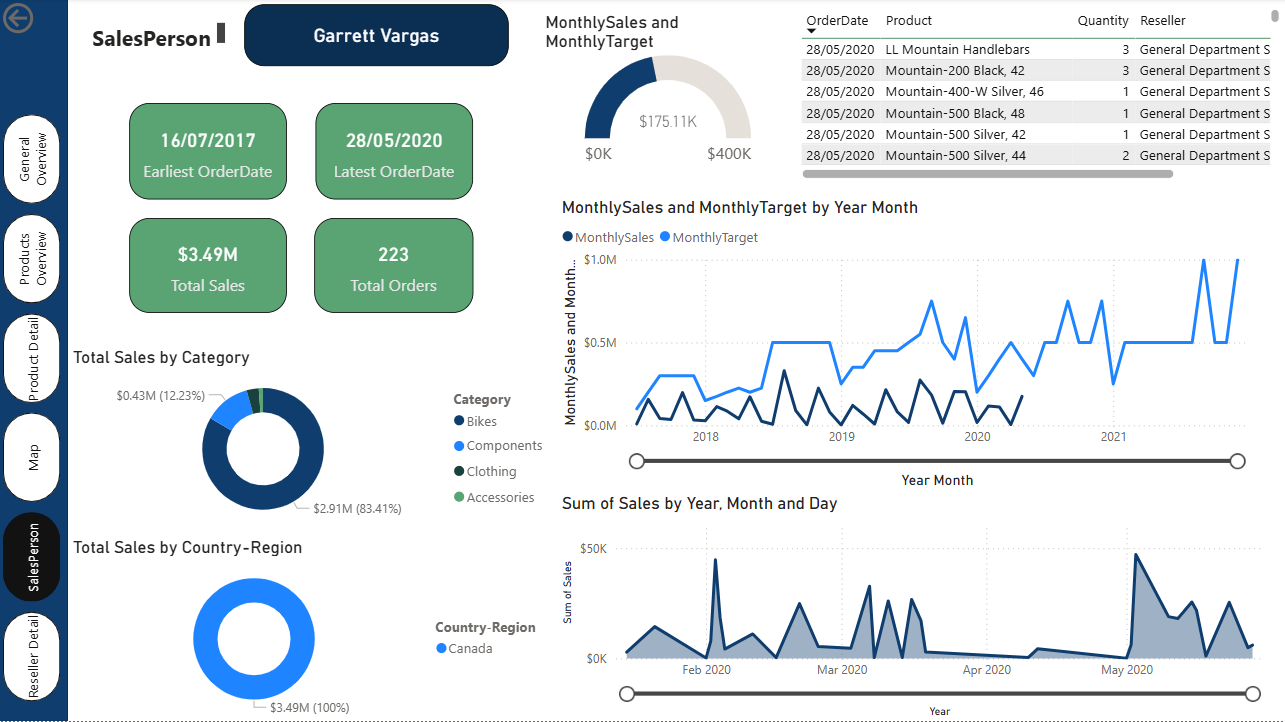

The page's visual inventory and layout, read from the dashboard file:
{"tool":"powerbi","page":{"name":"SalesPerson","canvas":[1280,720],"ordinal":4},"visuals":[{"type":"card","fields":{"Values":["Min(Salesperson.Salesperson)"]},"box":[244.8,6.2,263.4,62],"z":0},{"type":"shape","box":[0,0,69.7,720.3],"z":1000},{"type":"textbox","box":[88.3,20.1,142.6,34.1],"z":2000},{"type":"actionButton","box":[0,0,100,40],"z":3000},{"type":"gauge","fields":{"TargetValue":["Measure Table.MonthlyTarget"],"Y":["Measure Table.MonthlySales"]},"box":[539.3,13.9,254.1,162.7],"z":4000},{"type":"lineChart","fields":{"Y":["Measure Table.MonthlySales","Measure Table.MonthlyTarget"],"Category":["CalendarMonths.Year Month"]},"box":[556.3,198.4,695.8,294.4],"z":5000},{"type":"lineChart","fields":{"Y":["Sum(Sales.Sales)"],"Category":["Sales.OrderDate.Variation.Date Hierarchy.Year","Sales.OrderDate.Variation.Date Hierarchy.Month","Sales.OrderDate.Variation.Date Hierarchy.Day"]},"box":[556.3,492.8,723.7,227.8],"z":6000},{"type":"donutChart","fields":{"Y":["Sales.Total Sales"],"Category":["Product.Category","Product.Subcategory"]},"box":[69.7,347.1,486.6,184.4],"z":7000},{"type":"donutChart","fields":{"Category":["Reseller.Country-Region","Reseller.State-Province","Reseller.City"],"Y":["Sales.Total Sales"]},"box":[69.7,536.2,486.6,184.4],"z":8000},{"type":"card","fields":{"Values":["Min(Sales.OrderDate)"]},"box":[130.5,104.4,156.5,96.1],"z":9000},{"type":"card","fields":{"Values":["Max(Sales.OrderDate)"]},"box":[316.4,104.4,156.5,96.1],"z":10000},{"type":"card","fields":{"Values":["Sales.Total Sales"]},"box":[130.8,219.4,156.5,94.5],"z":11000},{"type":"card","fields":{"Values":["Sales.Total Orders"]},"box":[315.2,219.4,158.1,94.5],"z":12000},{"type":"tableEx","fields":{"Values":["Sales.OrderDate","Product.Product","Sales.Quantity","Reseller.Reseller","Sales.Sales"]},"box":[793.4,6.2,486.6,178.2],"z":13000},{"type":"pageNavigator","box":[4.6,116.2,57.3,585.8],"z":14000}]}

Visuals, with their boxes on the page's 1280x720 design canvas (x1, y1, x2, y2). These are canvas units, not pixel positions in the 1285x722 screenshot, which may show the page scaled, cropped or inside an application window:
card - Min(Salesperson.Salesperson): left=245, top=6, right=508, bottom=68
shape: left=0, top=0, right=70, bottom=720
textbox: left=88, top=20, right=231, bottom=54
actionButton: left=0, top=0, right=100, bottom=40
gauge - Measure Table.MonthlyTarget x Measure Table.MonthlySales: left=539, top=14, right=793, bottom=177
lineChart - Measure Table.MonthlySales x Measure Table.MonthlyTarget: left=556, top=198, right=1252, bottom=493
lineChart - Sum(Sales.Sales) x Sales.OrderDate.Variation.Date Hierarchy.Year: left=556, top=493, right=1280, bottom=721
donutChart - Sales.Total Sales x Product.Category: left=70, top=347, right=556, bottom=532
donutChart - Reseller.Country-Region x Reseller.State-Province: left=70, top=536, right=556, bottom=721
card - Min(Sales.OrderDate): left=130, top=104, right=287, bottom=200
card - Max(Sales.OrderDate): left=316, top=104, right=473, bottom=200
card - Sales.Total Sales: left=131, top=219, right=287, bottom=314
card - Sales.Total Orders: left=315, top=219, right=473, bottom=314
tableEx - Sales.OrderDate x Product.Product: left=793, top=6, right=1280, bottom=184
pageNavigator: left=5, top=116, right=62, bottom=702
